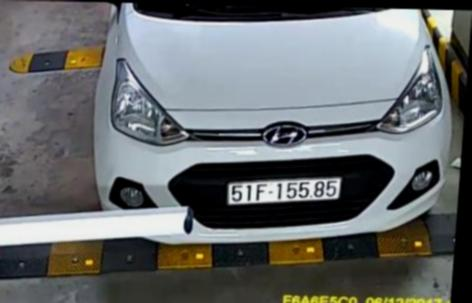License_Plate: (226, 169, 345, 213)
